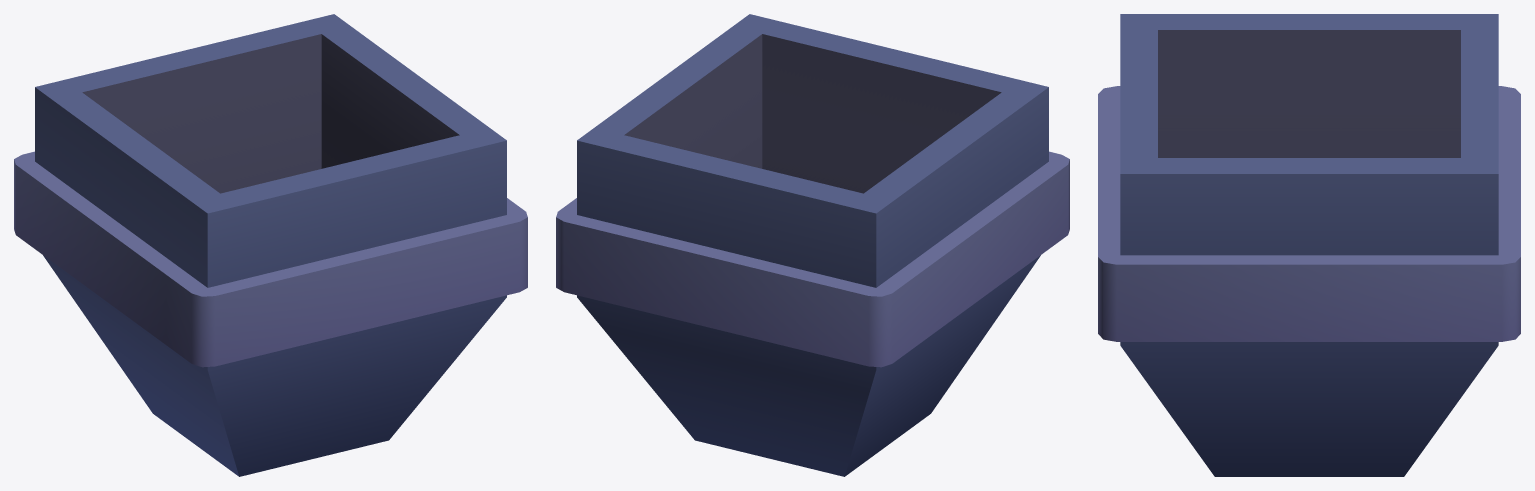
File: hopper-square.glb
The picture shows the model from 3 angles, left to right: view 1: azimuth 30°, elevation 25°; view 2: azimuth 150°, elevation 25°; view 3: azimuth 270°, elevation 25°; orthographic projection. The views are drawn at different scales.
Visible parts, largest first — view 1: hopper-square; view 2: hopper-square; view 3: hopper-square.
Boxes of the visible parts, bbox=[...] form: hopper-square: bbox=[14, 14, 527, 476]; hopper-square: bbox=[556, 14, 1069, 476]; hopper-square: bbox=[1098, 14, 1520, 476].
Size of the model in its own units: 1.12 by 1 by 1.12.
